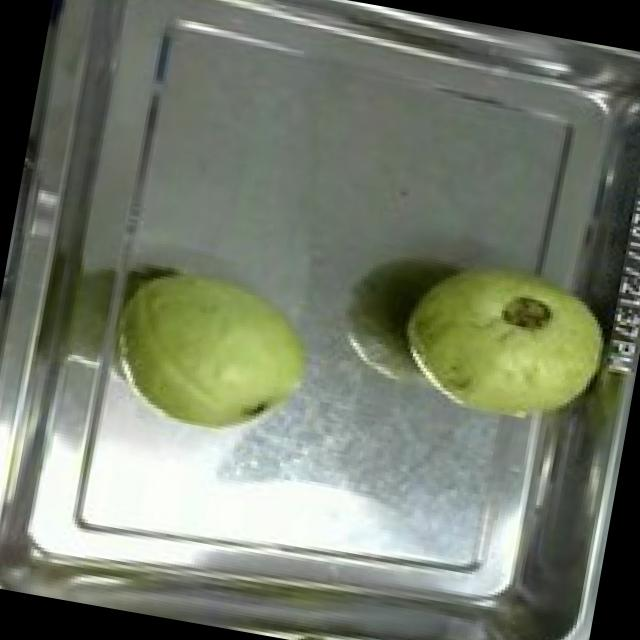Fruit: (94, 243, 333, 460), (380, 235, 620, 446)
